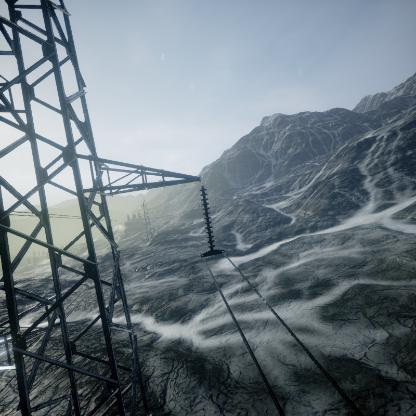insulator: (197, 186, 219, 251)
